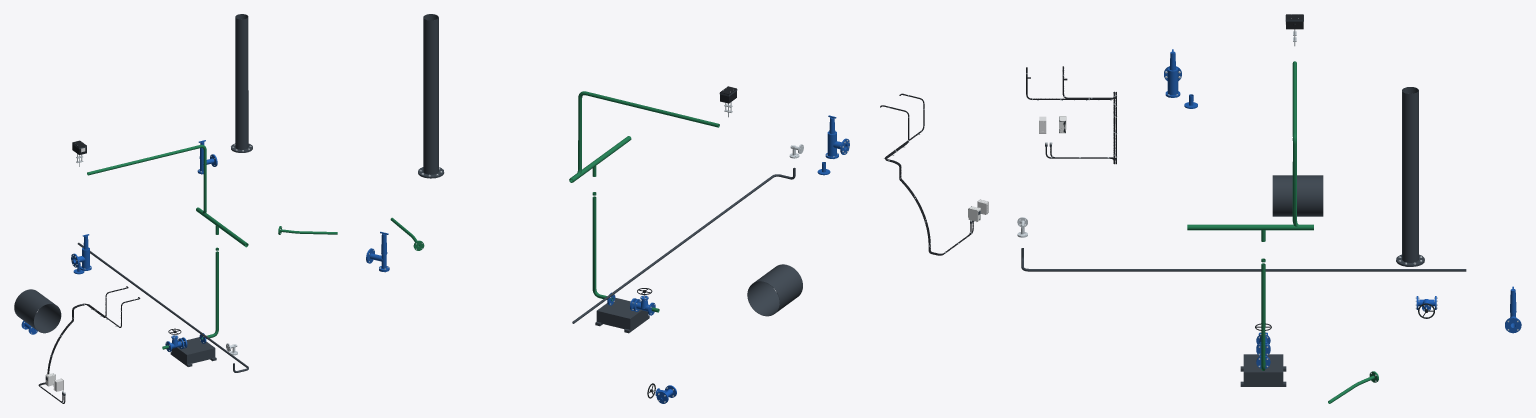
The picture shows the model from 3 angles, left to right: view 1: azimuth 30°, elevation 25°; view 2: azimuth 150°, elevation 25°; view 3: azimuth 270°, elevation 25°; orthographic projection. The views are drawn at different scales.
Parts seen in each view (by area): view 1: bdv_vent / dark, flue_spacer / dark, pump_branch_2 / dark, to_direct / green, tds_common / dark, pump_branch_2 / green, safety_1 / blue, wiring_lp200 / black, wiring_high_level / black, pump_delivery / green; view 2: bdv_vent / dark, flue_spacer / dark, pump_branch_2 / dark, to_direct / green, tds_common / dark, pump_branch_2 / green, safety_1 / blue; view 3: bdv_vent / dark, flue_spacer / dark, tds_common / dark, pump_branch_2 / dark, pump_delivery / green, to_direct / green, pump_branch_2 / green, safety_1 / blue, wiring_lp200 / black.
Part boxes in pixels (box(x1,y1,x2,y2)): bdv_vent / dark: box(231, 14, 252, 152); flue_spacer / dark: box(14, 289, 61, 333); pump_branch_2 / dark: box(170, 337, 216, 366); to_direct / green: box(87, 144, 206, 213); tds_common / dark: box(77, 242, 248, 372); pump_branch_2 / green: box(162, 225, 218, 349); safety_1 / blue: box(71, 234, 91, 270); wiring_lp200 / black: box(39, 297, 140, 403); wiring_high_level / black: box(38, 286, 128, 402); pump_delivery / green: box(196, 207, 248, 247); bdv_vent / dark: box(418, 14, 444, 178); flue_spacer / dark: box(747, 264, 802, 316); pump_branch_2 / dark: box(595, 297, 649, 333); to_direct / green: box(569, 91, 719, 182); tds_common / dark: box(572, 167, 795, 323); pump_branch_2 / green: box(592, 166, 659, 312); safety_1 / blue: box(825, 115, 849, 158); bdv_vent / dark: box(1396, 87, 1424, 266); flue_spacer / dark: box(1272, 175, 1323, 216); tds_common / dark: box(1021, 248, 1466, 271); pump_branch_2 / dark: box(1240, 354, 1286, 386); pump_delivery / green: box(1187, 224, 1313, 230); to_direct / green: box(1292, 61, 1298, 226); pump_branch_2 / green: box(1261, 230, 1265, 370); safety_1 / blue: box(1164, 49, 1181, 97); wiring_lp200 / black: box(1026, 67, 1114, 164).
Size of the model in its own units: 5.82 by 3.85 by 4.97.
